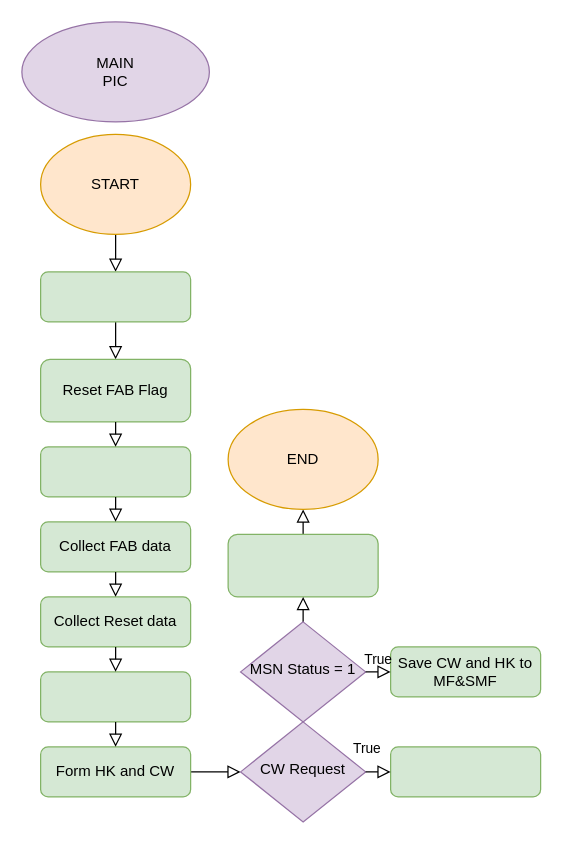
The diagram is 563 pixels wide and 844 high, and some of its shapes have lost their labels. Each missing label, with the box of its shape:
Collect ADCS data: (39, 671, 191, 722)
FWD CW to Com: (389, 746, 541, 797)
Loop HK addresses and counters: (39, 446, 191, 497)
Save CW and HK to MF/SCF/SMF: (227, 533, 378, 597)
Turn on Main PIC, Unreg2: (39, 271, 191, 322)
